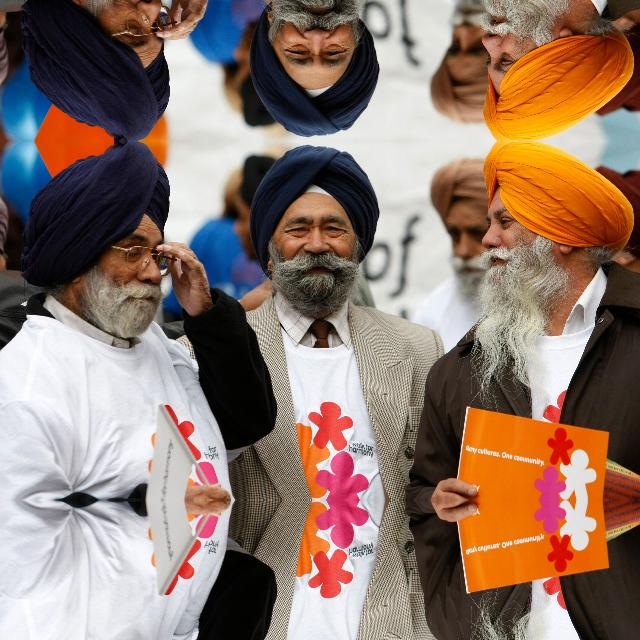person: (464, 140, 640, 384), (10, 142, 194, 366), (228, 140, 396, 372), (10, 0, 194, 138), (464, 0, 640, 140), (228, 0, 396, 139), (464, 616, 640, 640), (228, 628, 396, 640), (10, 633, 194, 640)
